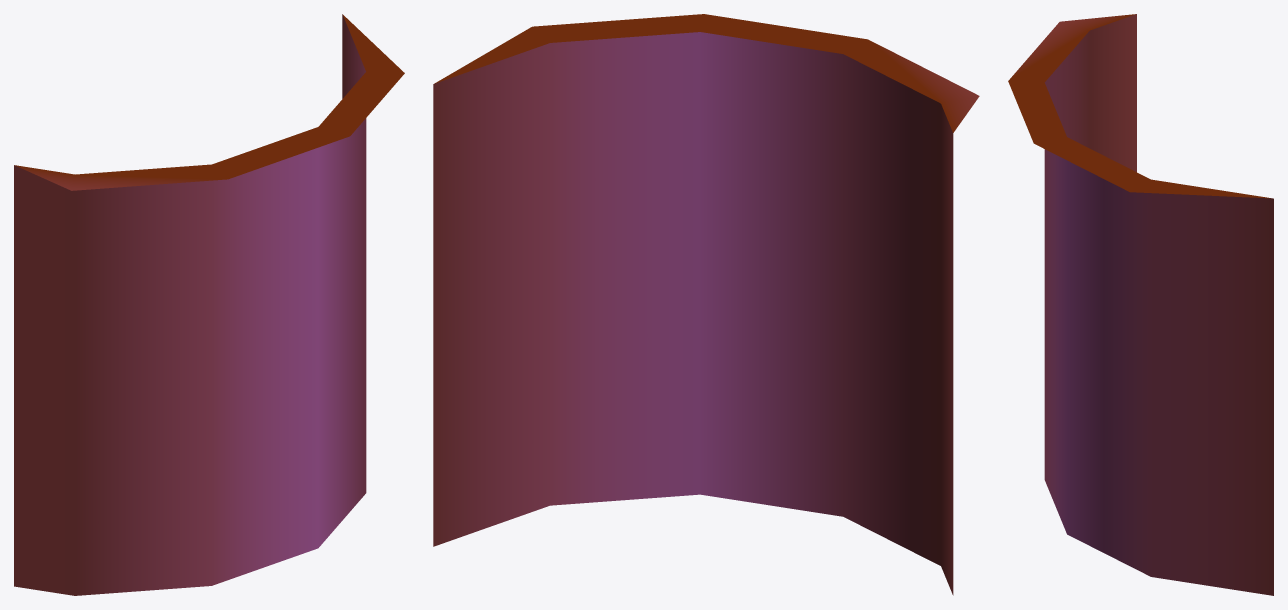
File: ClothingBuildingFish.fbx
3 renders of one model, left to right at view 1: azimuth 30°, elevation 25°; view 2: azimuth 150°, elevation 25°; view 3: azimuth 270°, elevation 25°, orthographic. The views are drawn at different scales.
Visible parts, largest first — view 1: ClothingBuildingFish; view 2: ClothingBuildingFish; view 3: ClothingBuildingFish.
Part boxes in pixels (box(x1,y1,x2,y2)): ClothingBuildingFish: box(14, 14, 404, 595); ClothingBuildingFish: box(433, 14, 979, 595); ClothingBuildingFish: box(1008, 14, 1273, 595).
Size of the model in its own units: 164 by 165 by 100.
